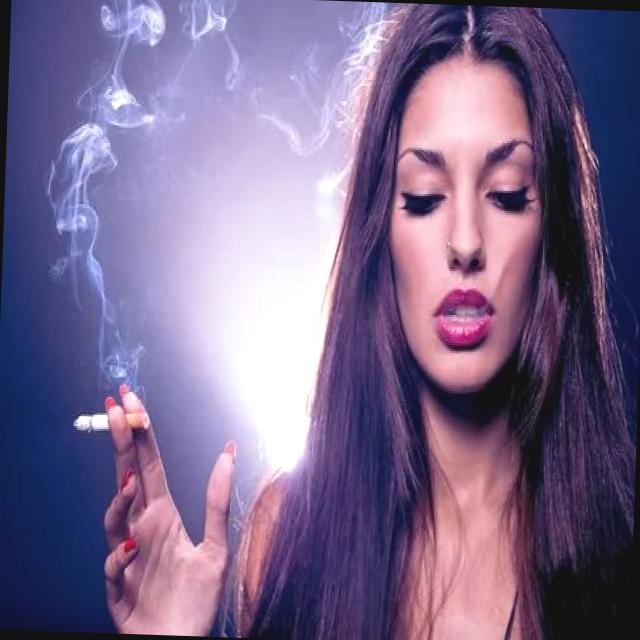smoke: (70, 406, 155, 446)
